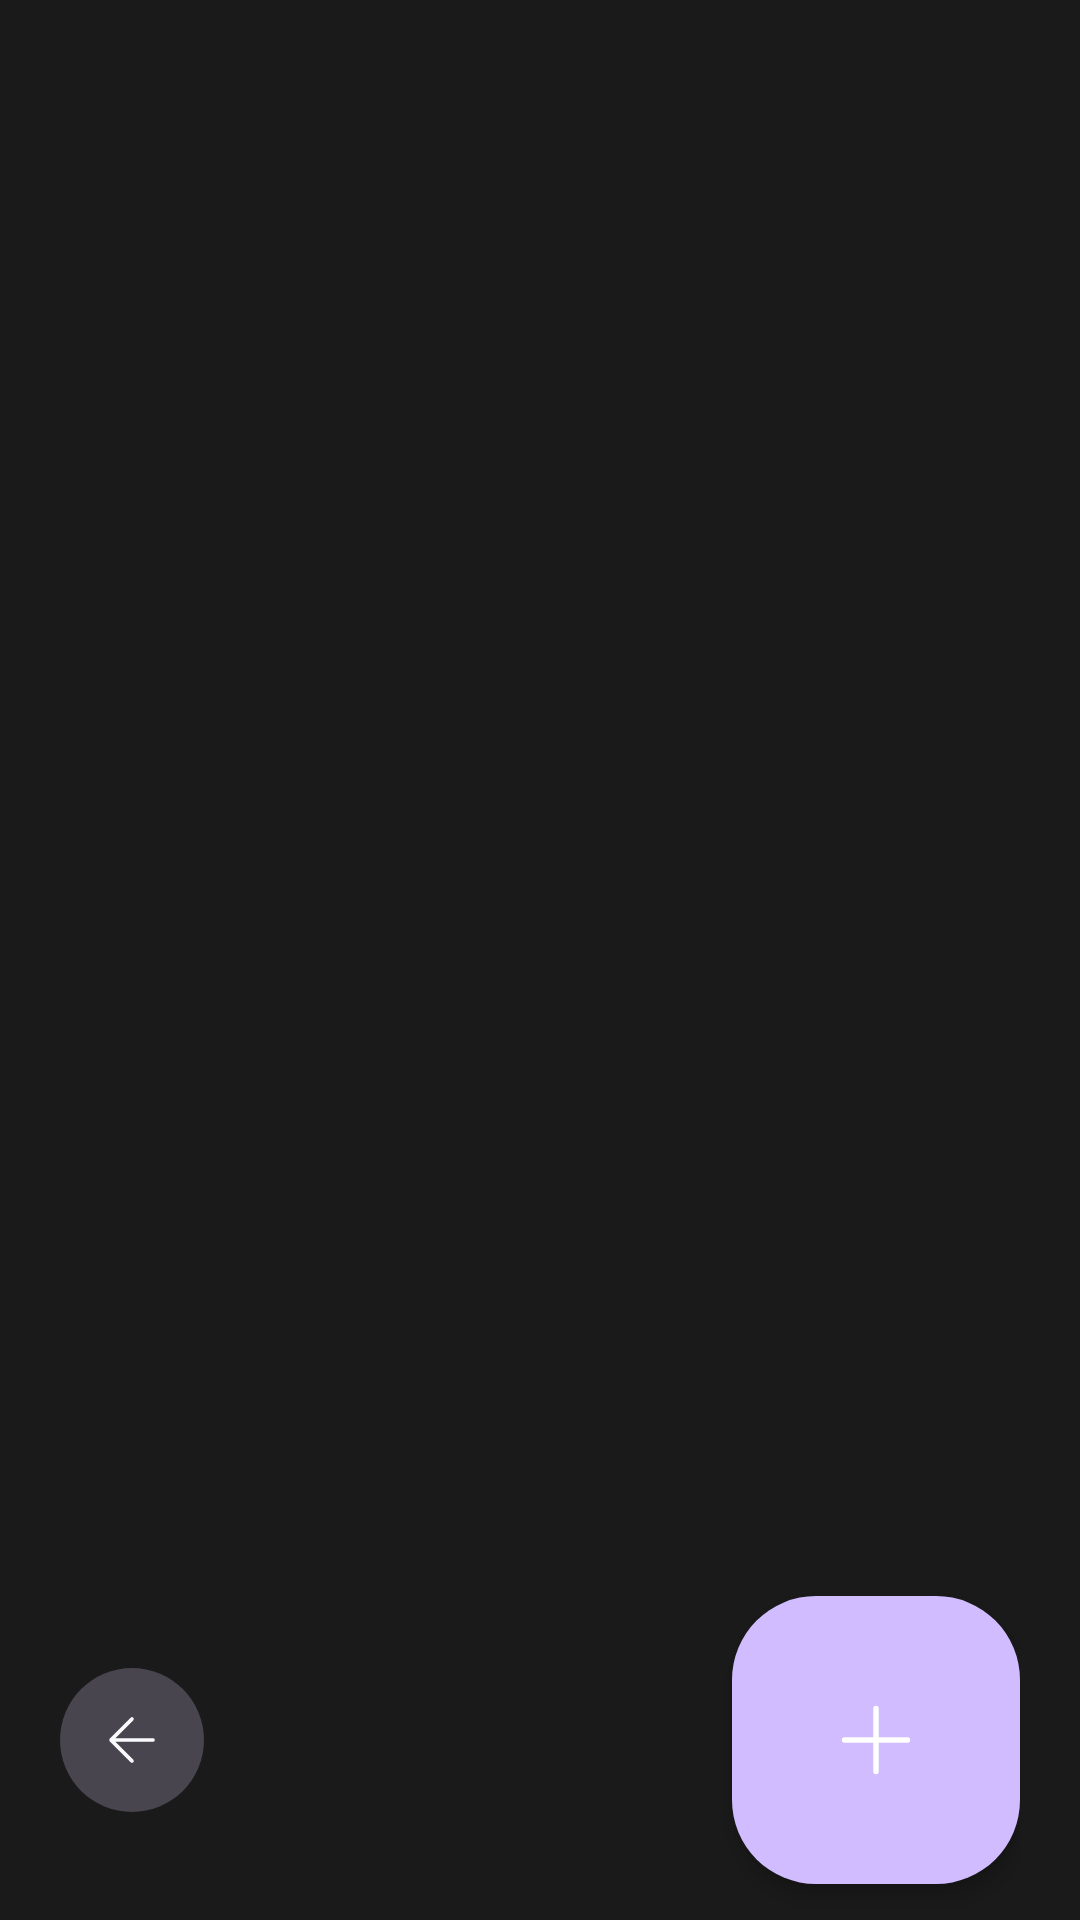

Locate icon controls on the screen. Image size 1080×1920, boxes as region(x1, y1, x2, y2).
Go back: region(60, 1668, 204, 1812)
New tab: region(732, 1596, 1020, 1884)
